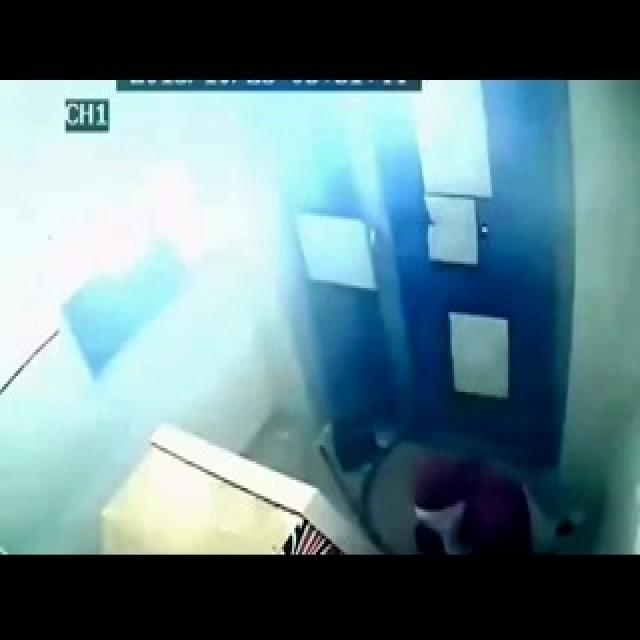thief: (398, 452, 544, 554)
